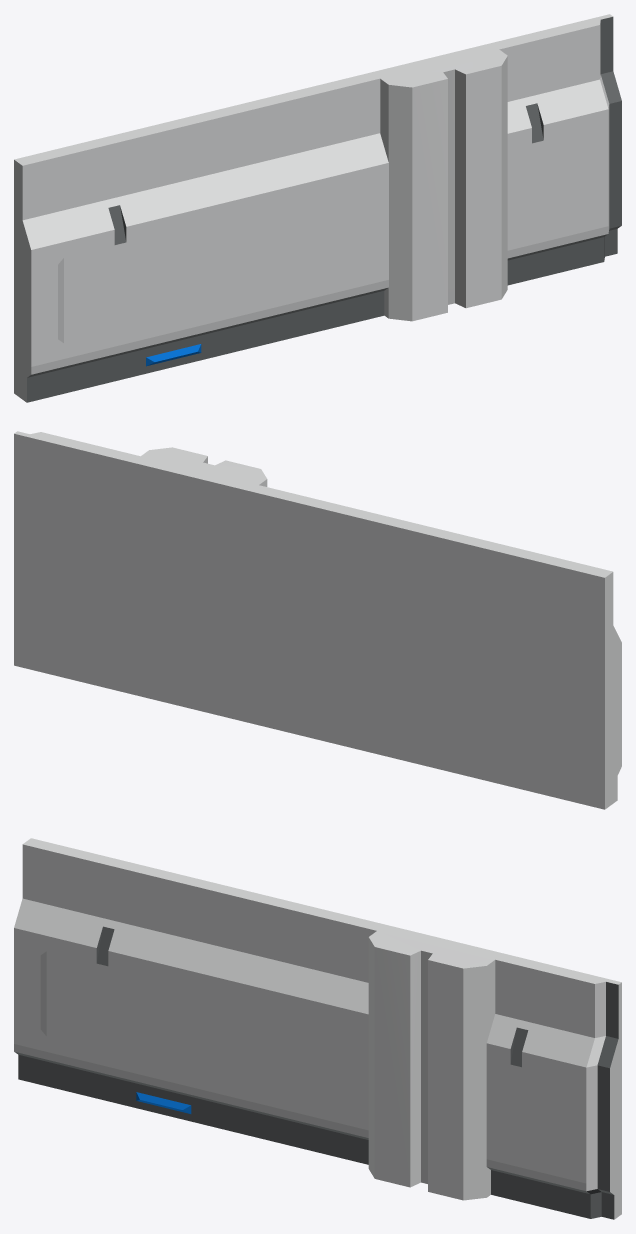
File: Wall_type_A_041.fbx
3 views of the same model, one above another, from view 1: azimuth 30°, elevation 25°; view 2: azimuth 150°, elevation 25°; view 3: azimuth 330°, elevation 25° (orthographic).
Parts seen in each view (by area): view 1: Wall_type_A_041; view 2: Wall_type_A_041; view 3: Wall_type_A_041.
Boxes of the visible parts, x1=… form: Wall_type_A_041: x1=14, y1=14, x2=621, y2=402; Wall_type_A_041: x1=14, y1=431, x2=621, y2=809; Wall_type_A_041: x1=14, y1=838, x2=621, y2=1219.
Bounding box in the file's own units: 400 × 30 × 150.
